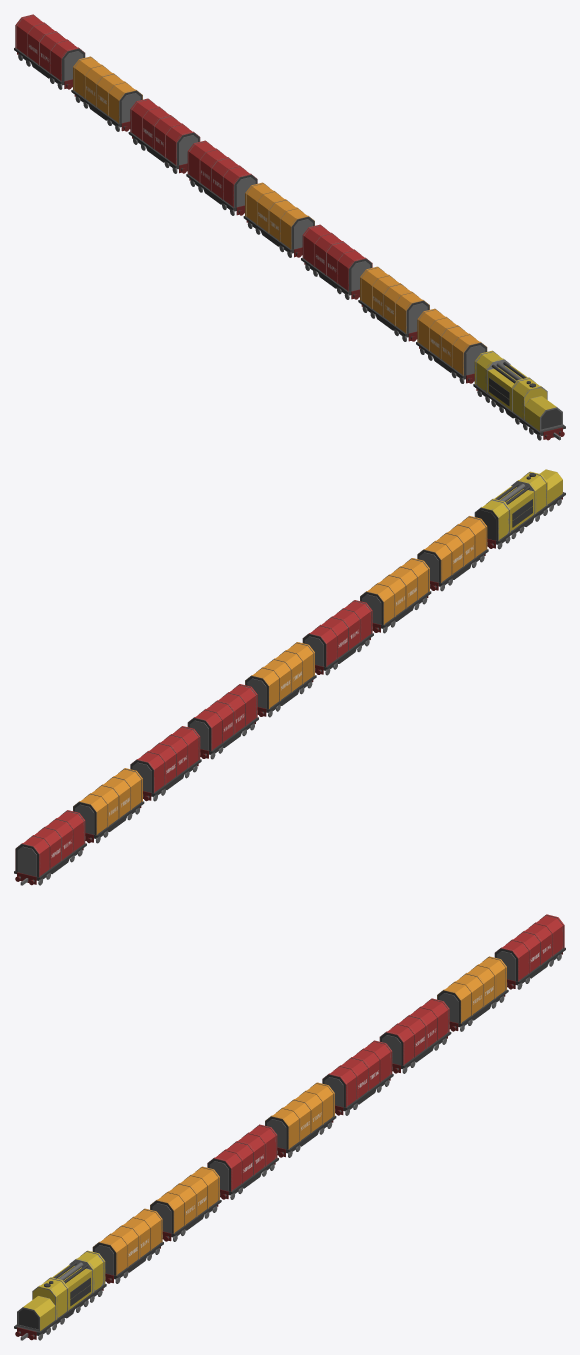
Rendered from Train_Full.fbx.
3 views of the same model, one above another, from view 1: azimuth 30°, elevation 25°; view 2: azimuth 150°, elevation 25°; view 3: azimuth 330°, elevation 25° (orthographic).
Parts seen in each view (by area): view 1: polySurface176; view 2: polySurface176; view 3: polySurface176.
Boxes of the visible parts, x1,y1,x2,y2 form: polySurface176: [14, 14, 565, 440]; polySurface176: [14, 469, 565, 885]; polySurface176: [14, 914, 565, 1340].
Size of the model in its own units: 1.9 by 2.85 by 68.
